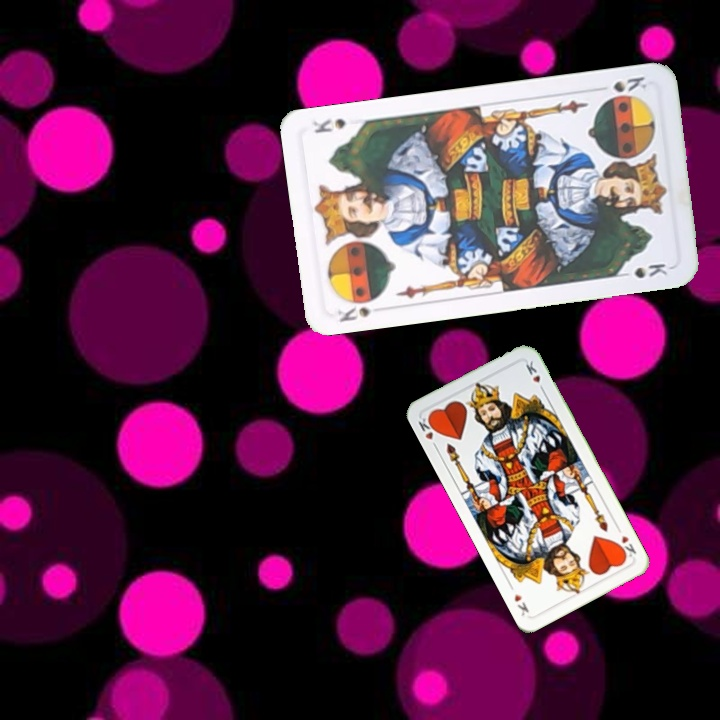HK: (414, 411, 441, 452), (614, 532, 639, 561)
SK: (333, 293, 383, 325), (609, 72, 649, 95)
